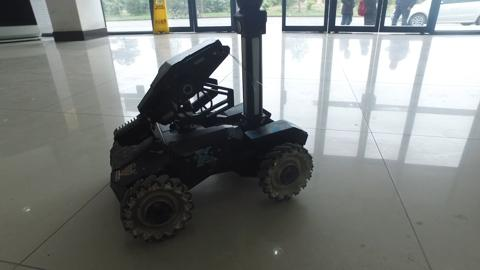car: (389, 1, 480, 27)
chariot: (108, 1, 314, 241)
